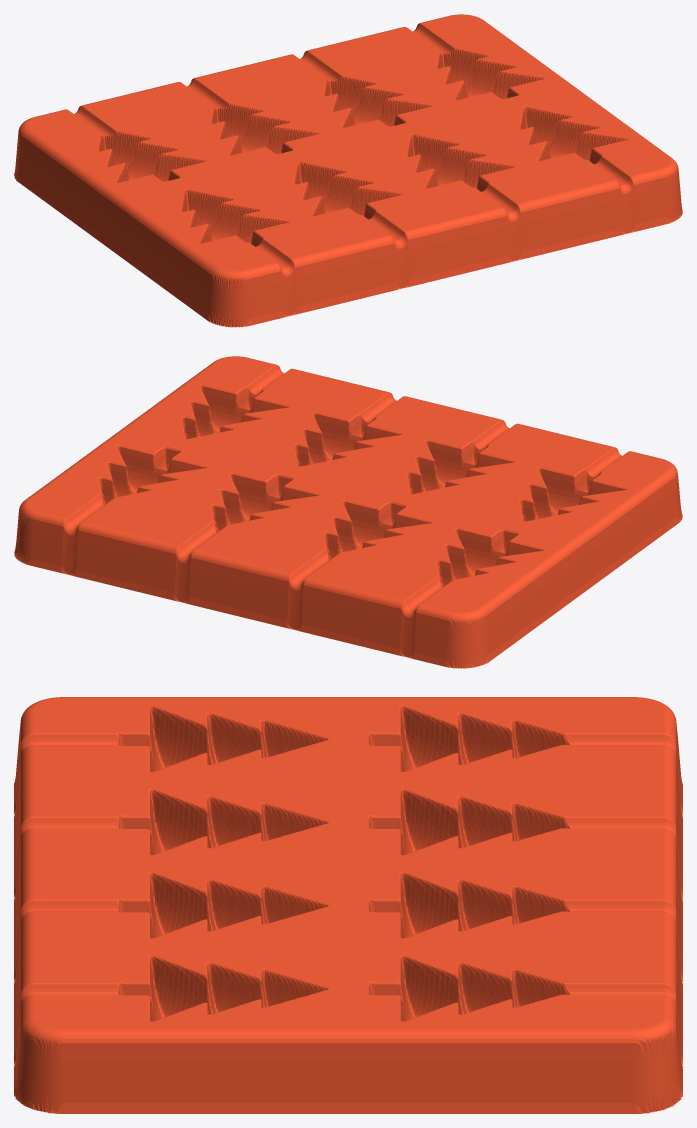
The model's file is mold.glb.
3 renders of one model, top to bottom at view 1: azimuth 30°, elevation 25°; view 2: azimuth 150°, elevation 25°; view 3: azimuth 270°, elevation 25°, orthographic. The views are drawn at different scales.
Parts seen in each view (by area): view 1: geometry_0; view 2: geometry_0; view 3: geometry_0.
Boxes of the visible parts, x1,y1,x2,y2 form: geometry_0: (14, 14, 682, 327); geometry_0: (14, 356, 682, 668); geometry_0: (14, 697, 682, 1113).
Bounding box in the file's own units: 0.151 × 0.0155 × 0.1229.
